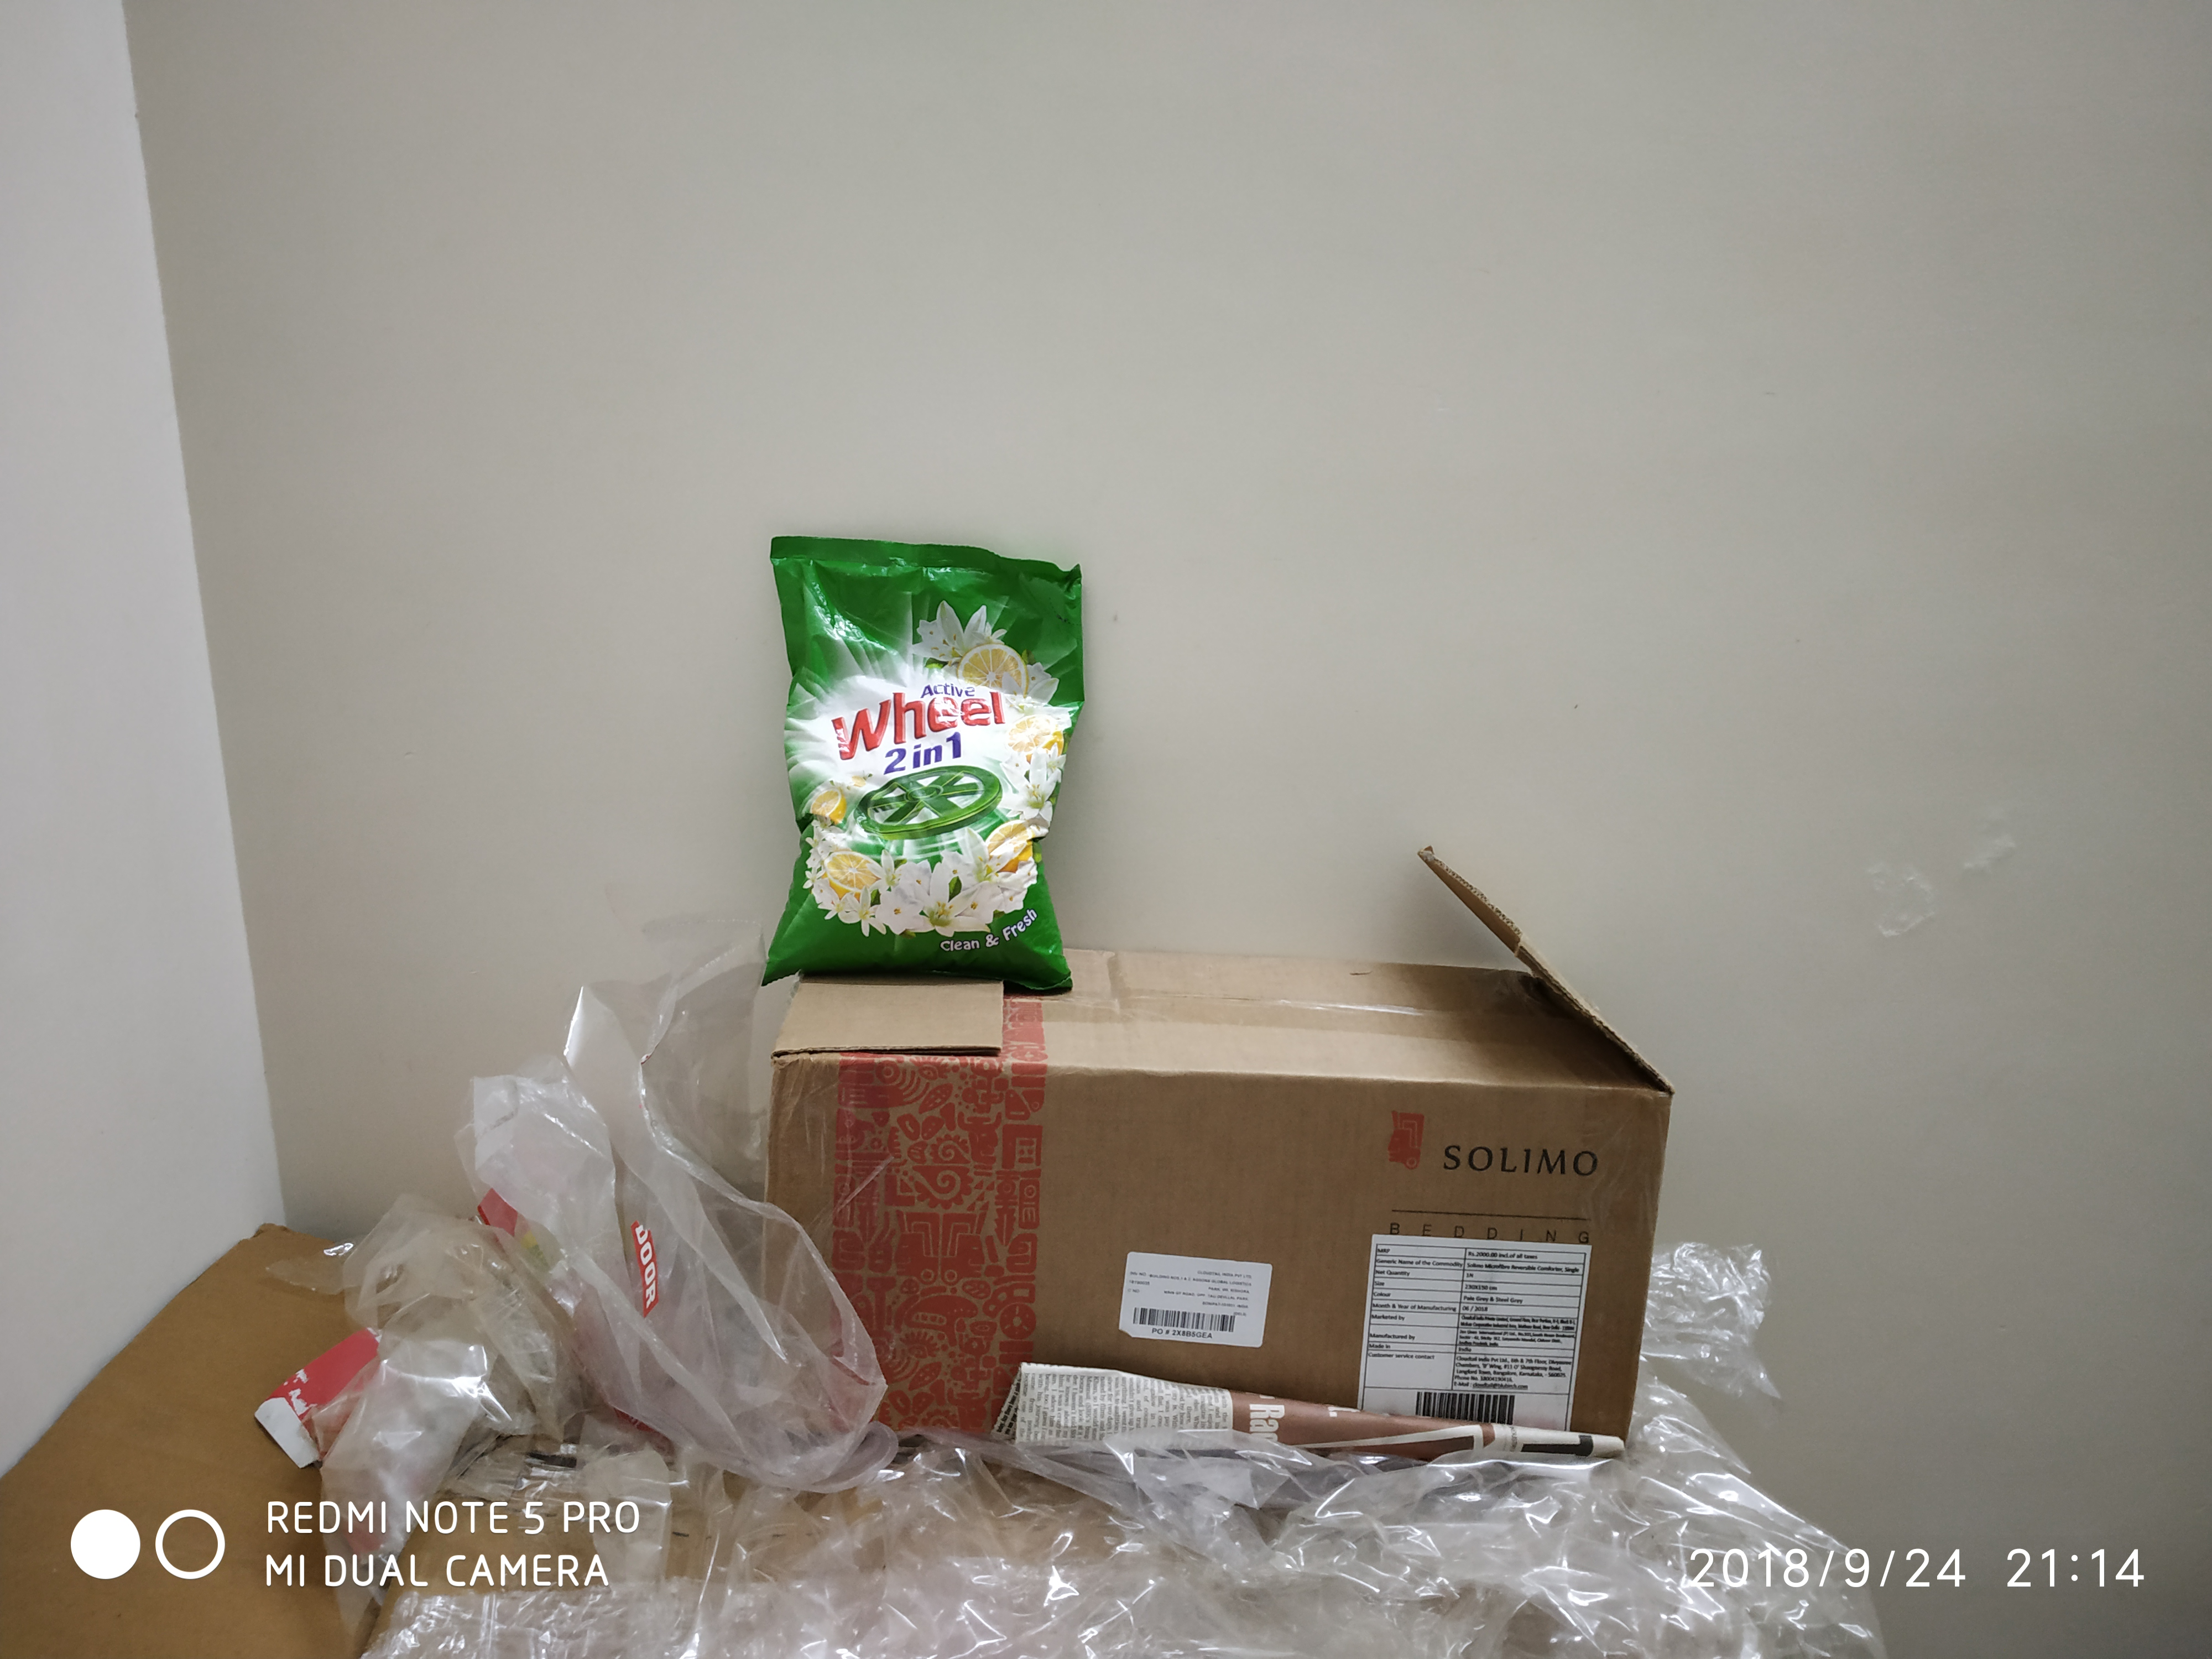detergent: (776, 529, 1076, 969)
